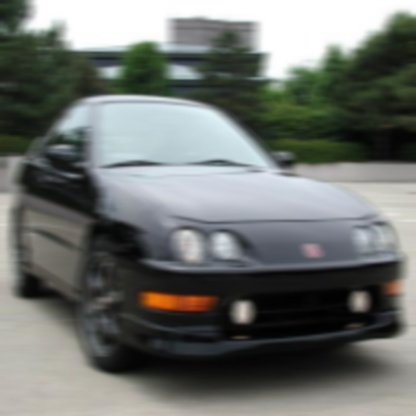Vehicle: (11, 93, 406, 374)
